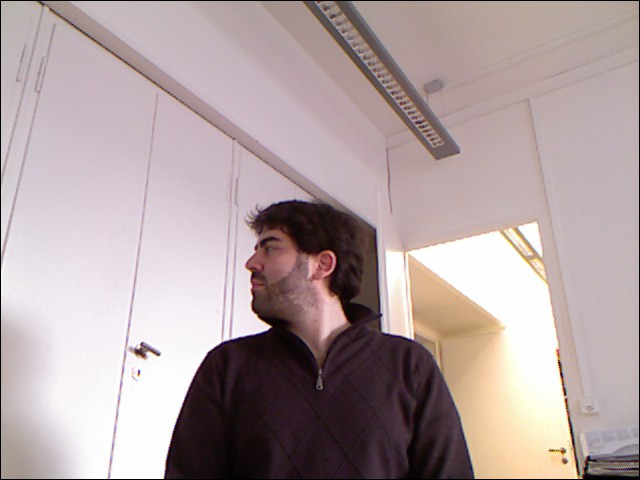deflection: (186, 206, 450, 447)
